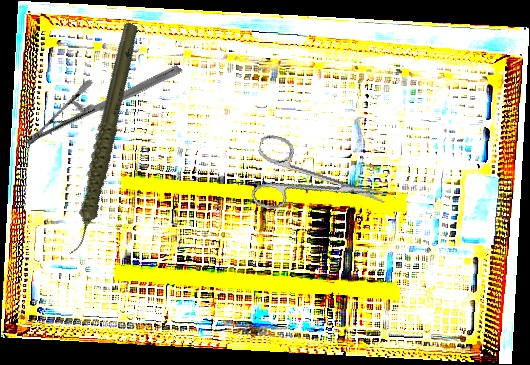Handpiece: (19, 20, 184, 258)
Iris Scissors: (245, 132, 394, 236)
Needle Holder: (22, 17, 184, 194)
